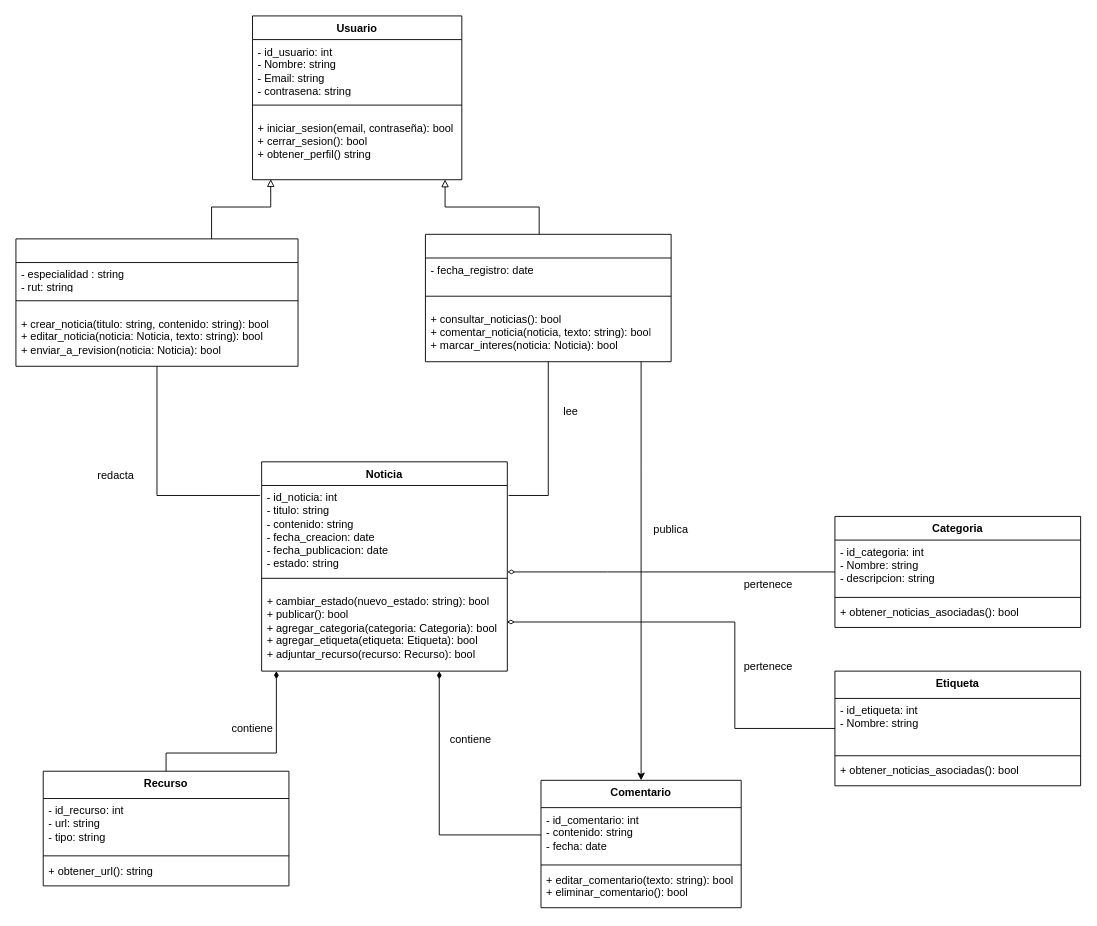
This 1097x926 diagram has some shape labels left out. The box of each missing label's shape, as (x1, y1, x2, y2) in pixels:
Lector: (425, 233, 671, 362)
Periodista: (15, 238, 298, 366)
